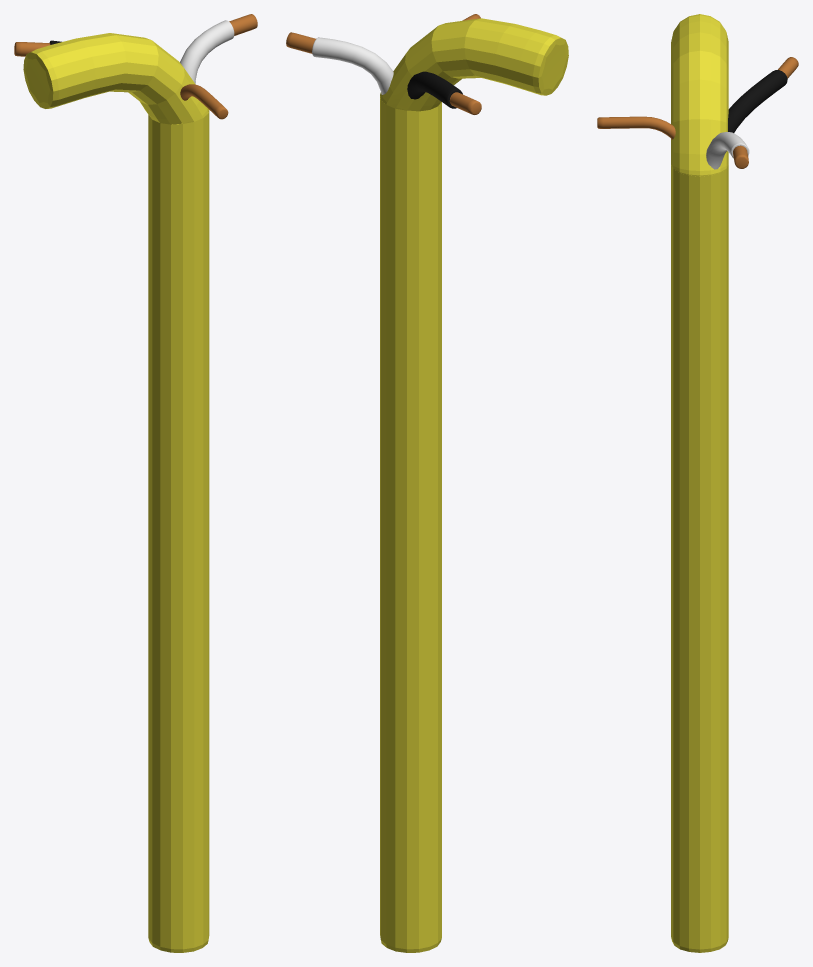
Rendered from WireSet.fbx.
3 views of the same model, side by side, from view 1: azimuth 30°, elevation 25°; view 2: azimuth 150°, elevation 25°; view 3: azimuth 270°, elevation 25° (orthographic). The views are drawn at different scales.
Visible parts, largest first — view 1: WireExposedStraight, WireBend; view 2: WireExposedStraight, WireBend; view 3: WireExposedStraight, WireBend.
Part boxes in pixels (bbox=[...]): WireExposedStraight: bbox=[14, 14, 257, 952]; WireBend: bbox=[23, 33, 208, 186]; WireExposedStraight: bbox=[286, 14, 481, 952]; WireBend: bbox=[380, 18, 568, 173]; WireExposedStraight: bbox=[597, 57, 798, 952]; WireBend: bbox=[671, 14, 728, 225].
Size of the model in its own units: 2.61 by 9.56 by 2.02.
